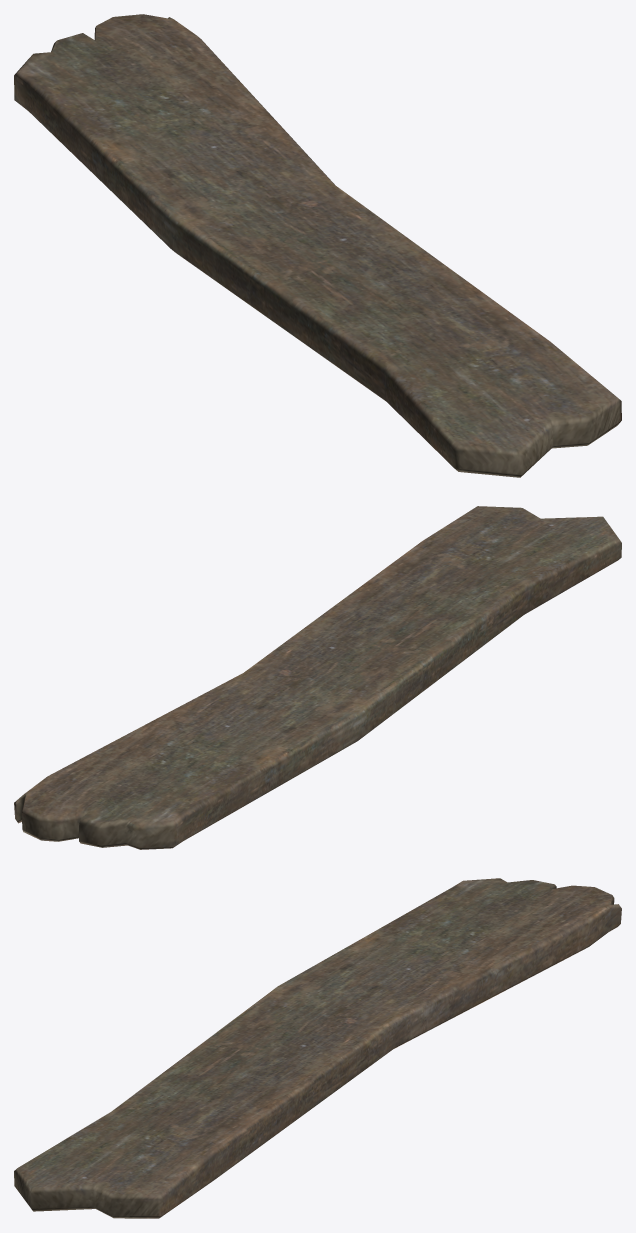
The model's file is SM_Plank_05.fbx.
3 views of the same model, one above another, from view 1: azimuth 30°, elevation 25°; view 2: azimuth 150°, elevation 25°; view 3: azimuth 330°, elevation 25° (orthographic). The views are drawn at different scales.
Visible parts, largest first — view 1: SM_Plank_05_LOD0; view 2: SM_Plank_05_LOD0; view 3: SM_Plank_05_LOD0.
Part boxes in pixels (bbox=[...]): SM_Plank_05_LOD0: bbox=[14, 14, 621, 477]; SM_Plank_05_LOD0: bbox=[14, 506, 621, 849]; SM_Plank_05_LOD0: bbox=[14, 878, 621, 1218].
Bounding box in the file's own units: 34.08 × 142 × 5.85.
Materials: 1 (1 with a texture image).
